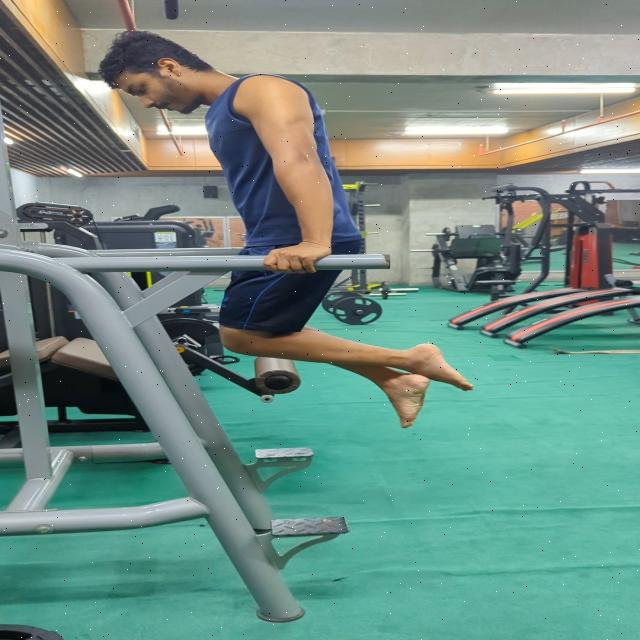Normal_Dips: (86, 28, 486, 430)
